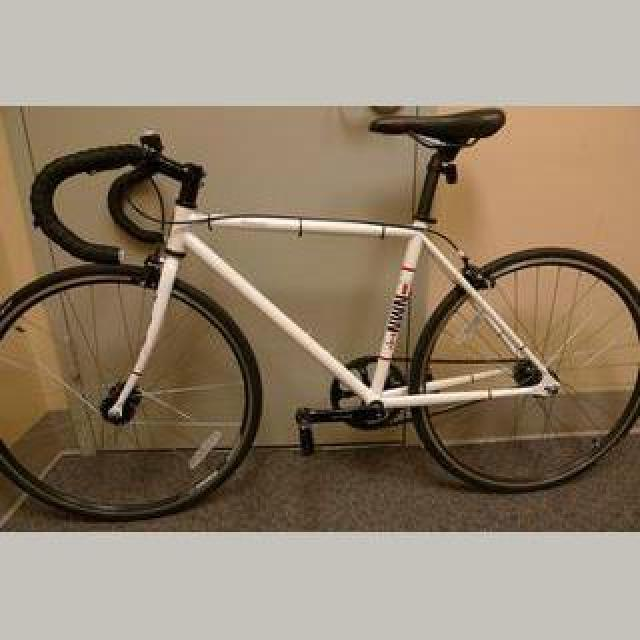Person: (0, 106, 640, 524)
